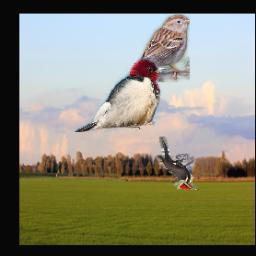Sparrow: (131, 15, 191, 83)
Woodpecker: (74, 58, 172, 132), (157, 137, 199, 191)
